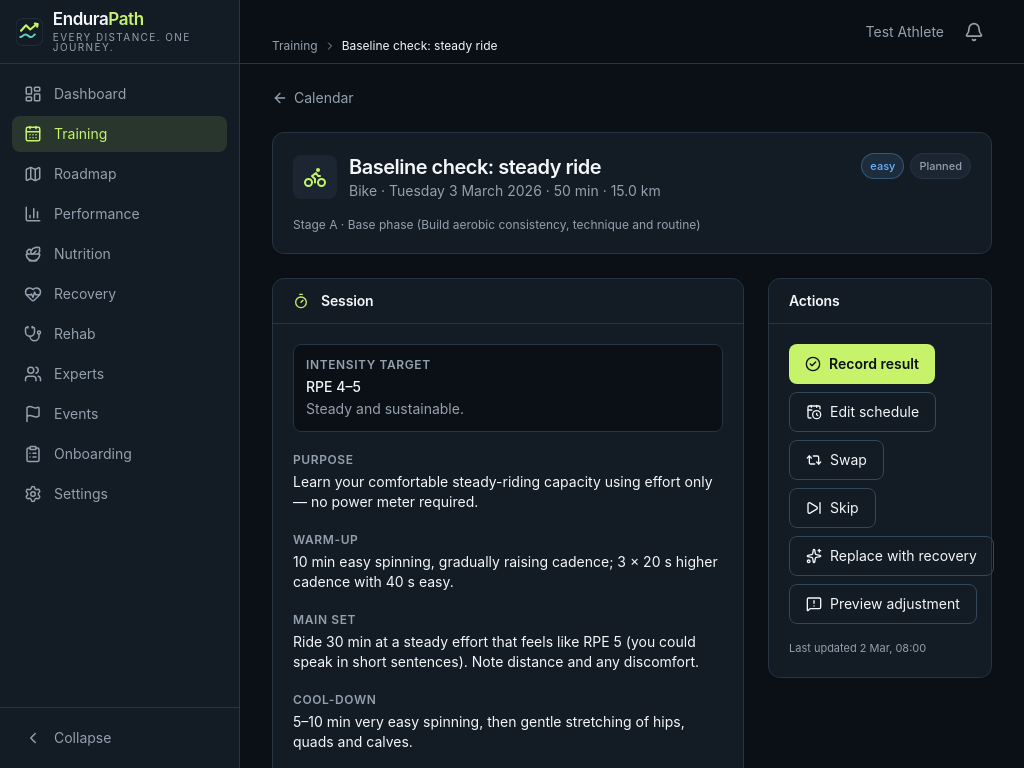
Test: workout detail and rescheduling › previews a plan adjustment (with rationale) without changing anything until applied
Click the button "Preview adjustment" at (883, 604), box left=789, top=584, right=977, bottom=624
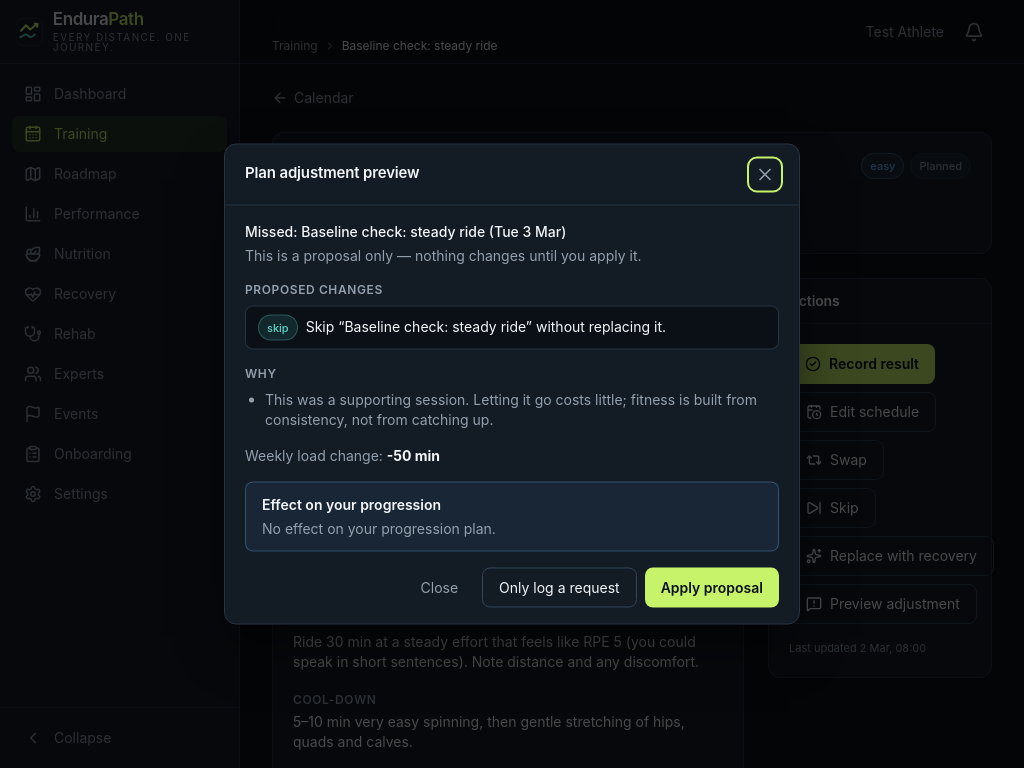
Now the text "proposal only" is shown, box left=245, top=246, right=642, bottom=264
Now the heading "Proposed changes" is shown, box left=245, top=282, right=383, bottom=296
Now the heading "Why" is shown, box left=245, top=366, right=277, bottom=380
